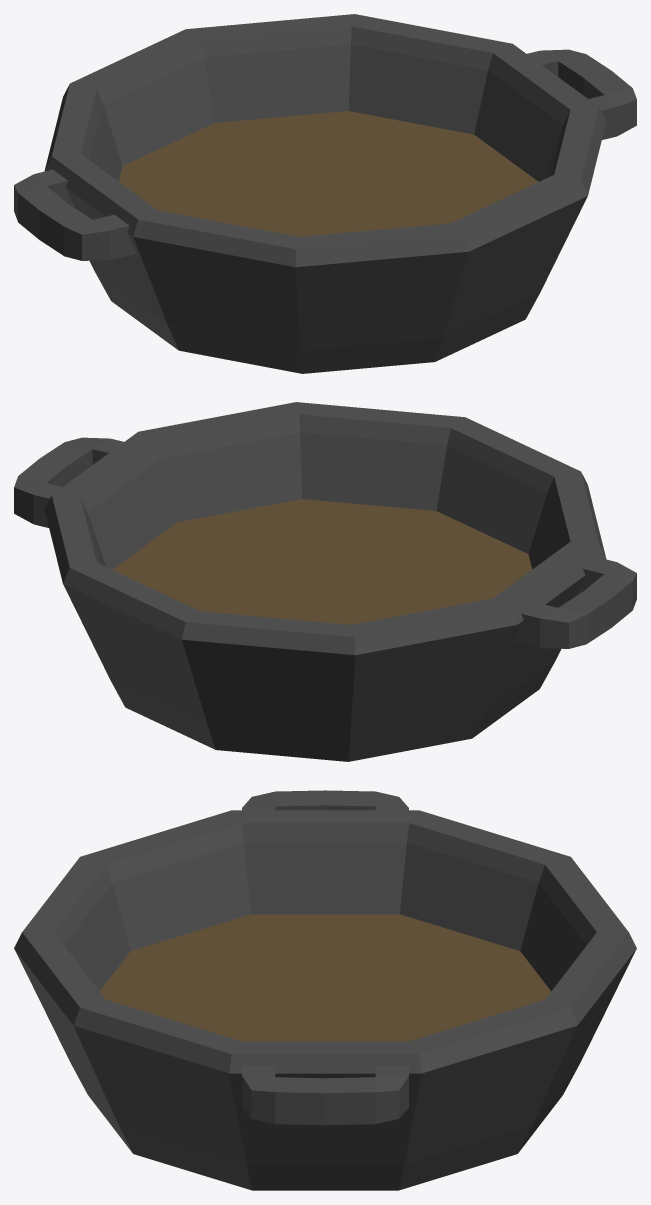
Rendered from CookingPot2_Soup.glb.
3 renders of one model, top to bottom at view 1: azimuth 30°, elevation 25°; view 2: azimuth 150°, elevation 25°; view 3: azimuth 270°, elevation 25°, orthographic. The views are drawn at different scales.
Visible parts, largest first — view 1: Grey, Brown; view 2: Grey, Brown; view 3: Grey, Brown.
Part boxes in pixels (x1,y1,x2,y2): Grey: (14, 14, 636, 373); Brown: (118, 111, 538, 236); Grey: (14, 402, 636, 761); Brown: (112, 499, 532, 624); Grey: (14, 790, 636, 1190); Brown: (100, 914, 550, 1041).
Size of the model in its own units: 2.29 by 0.6224 by 1.99.
